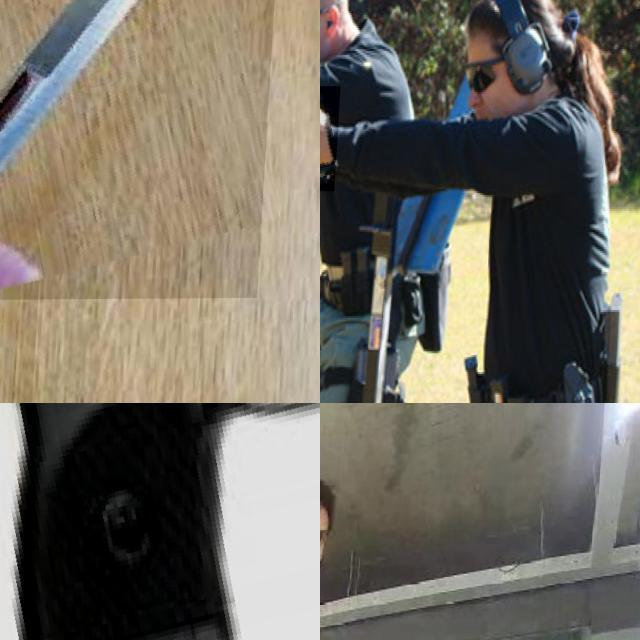-: (0, 0, 281, 301)
gun-knife-thesis - v11 Yolov5 augmented: (0, 403, 320, 640), (320, 86, 378, 192), (320, 22, 356, 114)
